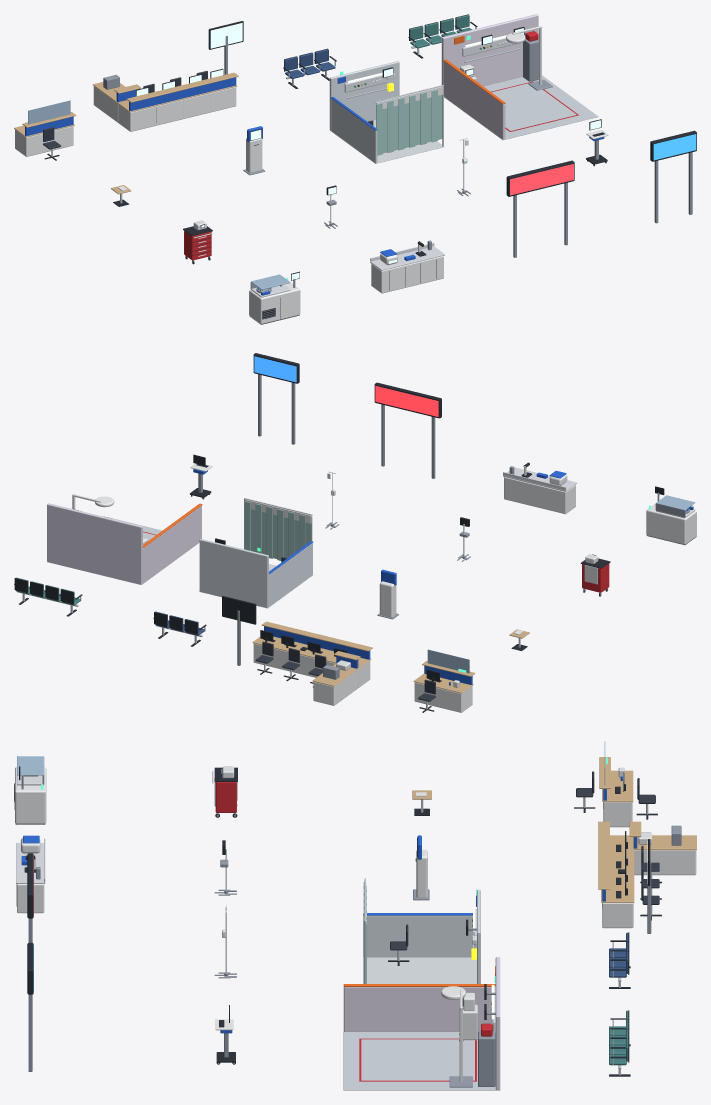
File: furniture.glb
The picture shows the model from 3 angles, top to bottom: view 1: azimuth 30°, elevation 25°; view 2: azimuth 150°, elevation 25°; view 3: azimuth 270°, elevation 25°; orthographic projection. The views are drawn at different scales.
Visible parts, largest first — view 1: resus_bay_body, nurses_station_body, cubicle_body, cubicle_curtain, lab_bench_body, triage_desk_body, lab_analyzer_body, sign_plate_a_body, sign_plate_b_body, seats_row4_body, seats_row3_body, crash_cart_body (+3 smaller); view 2: resus_bay_body, nurses_station_body, cubicle_body, cubicle_curtain, triage_desk_body, lab_bench_body, lab_analyzer_body, sign_plate_a_body, sign_plate_b_body, seats_row4_body, crash_cart_body, checkin_kiosk_body (+1 smaller); view 3: resus_bay_body, cubicle_body, nurses_station_body, triage_desk_body, lab_analyzer_body, lab_bench_body, crash_cart_body, seats_row4_body, seats_row3_body, checkin_kiosk_body, sign_plate_b_body, workstation_cart_body (+1 smaller).
Boxes of the visible parts, x1,y1,x2,y2 form: resus_bay_body: [441, 14, 598, 140]; nurses_station_body: [92, 21, 243, 131]; cubicle_body: [329, 61, 444, 163]; cubicle_curtain: [376, 86, 442, 155]; lab_bench_body: [370, 240, 444, 293]; triage_desk_body: [14, 100, 76, 160]; lab_analyzer_body: [249, 271, 300, 324]; sign_plate_a_body: [506, 160, 574, 257]; sign_plate_b_body: [650, 130, 696, 223]; seats_row4_body: [408, 14, 477, 58]; seats_row3_body: [283, 48, 336, 88]; crash_cart_body: [183, 220, 212, 260]; resus_bay_body: [47, 494, 202, 584]; nurses_station_body: [222, 596, 372, 705]; cubicle_body: [199, 498, 313, 608]; cubicle_curtain: [244, 499, 312, 560]; triage_desk_body: [413, 649, 475, 712]; lab_bench_body: [503, 462, 576, 514]; lab_analyzer_body: [646, 486, 696, 544]; sign_plate_a_body: [374, 382, 441, 478]; sign_plate_b_body: [253, 353, 299, 444]; seats_row4_body: [14, 577, 82, 616]; crash_cart_body: [580, 554, 610, 592]; checkin_kiosk_body: [377, 569, 398, 619]; resus_bay_body: [343, 957, 500, 1090]; cubicle_body: [363, 878, 480, 983]; nurses_station_body: [598, 821, 696, 933]; triage_desk_body: [574, 741, 657, 827]; lab_analyzer_body: [14, 756, 46, 824]; lab_bench_body: [16, 838, 45, 913]; crash_cart_body: [212, 766, 237, 812]; seats_row4_body: [609, 1010, 630, 1076]; seats_row3_body: [609, 932, 630, 988]; checkin_kiosk_body: [413, 835, 429, 900]; sign_plate_b_body: [27, 942, 33, 1071]; workstation_cart_body: [215, 1005, 235, 1062].
Size of the model in its own units: 17.73 by 2.95 by 17.44.
